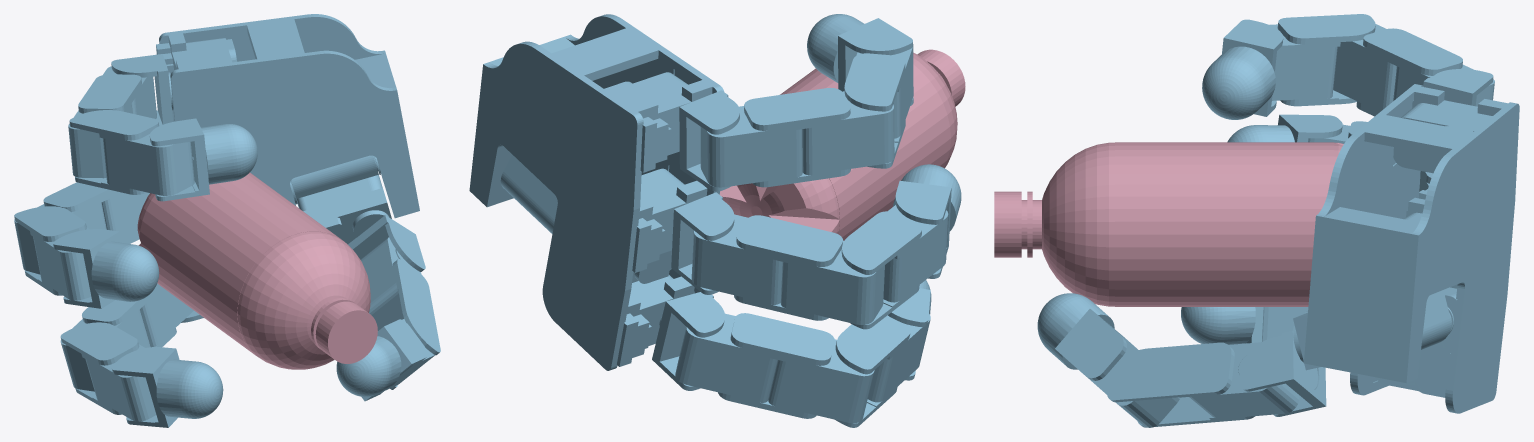
3 renders of one model, left to right at view 1: azimuth 30°, elevation 25°; view 2: azimuth 150°, elevation 25°; view 3: azimuth 270°, elevation 25°, orthographic. The views are drawn at different scales.
Visible parts, largest first — view 1: world, water_bottle.stl; view 2: world, water_bottle.stl; view 3: world, water_bottle.stl.
Part boxes in pixels (left/top/right/bottom): world: left=14, top=14, right=440, bottom=427; water_bottle.stl: left=137, top=172, right=377, bottom=369; world: left=469, top=14, right=961, bottom=427; water_bottle.stl: left=719, top=49, right=965, bottom=240; world: left=1037, top=14, right=1519, bottom=427; water_bottle.stl: left=994, top=142, right=1343, bottom=306.
Size of the model in its own units: 0.1866 by 0.137 by 0.1922.
